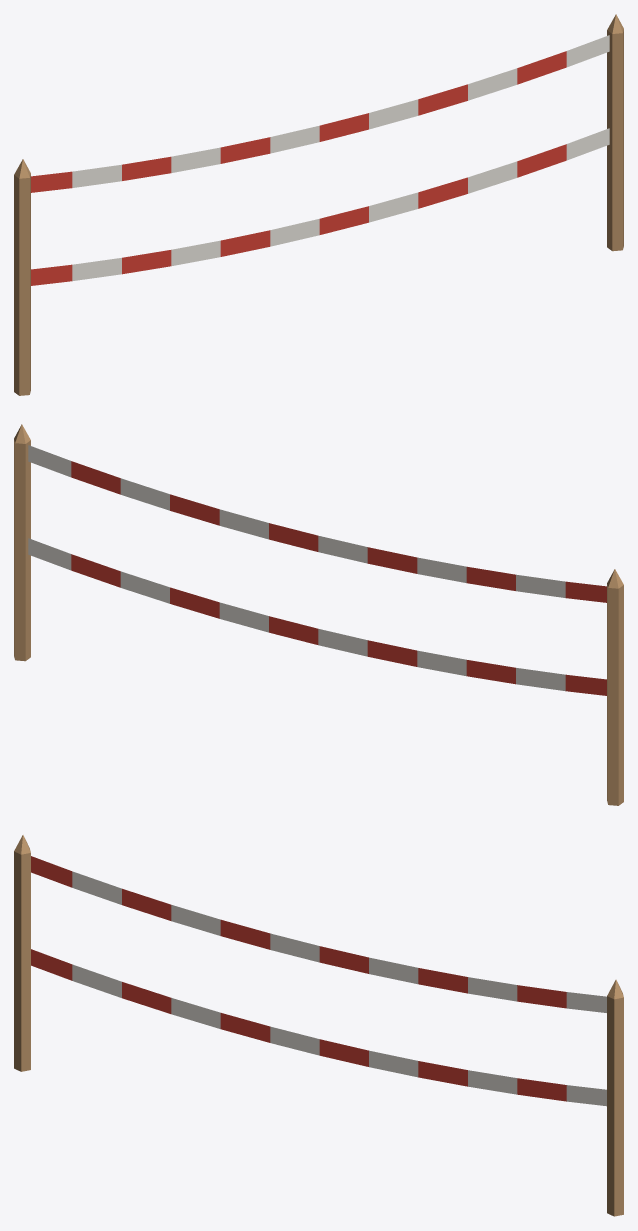
The model's file is tape_post.glb.
The picture shows the model from 3 angles, top to bottom: view 1: azimuth 30°, elevation 25°; view 2: azimuth 150°, elevation 25°; view 3: azimuth 330°, elevation 25°; orthographic projection.
Visible parts, largest first — view 1: tape_post; view 2: tape_post; view 3: tape_post.
Boxes of the visible parts, <box> form: tape_post: <box>14,14,623,395</box>; tape_post: <box>14,424,623,805</box>; tape_post: <box>14,835,623,1216</box>.
Bounding box in the file's own units: 3.07 × 1.13 × 0.0761.
